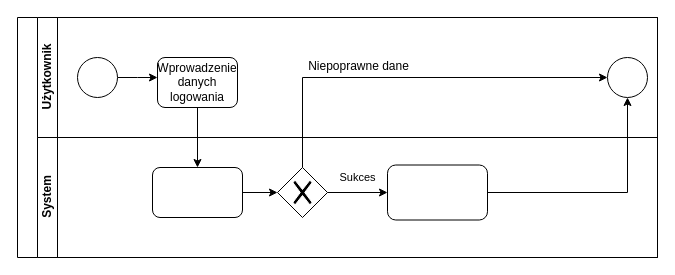
This 675x275 diagram has some shape labels left out. The shapes that lost their labels are listed below. From the top down, each one's centre as x and y in pixels, then its label:
the point at 197,192: Uwierzytelnianie
the point at 437,192: Ładowanie profilu użytkownika
